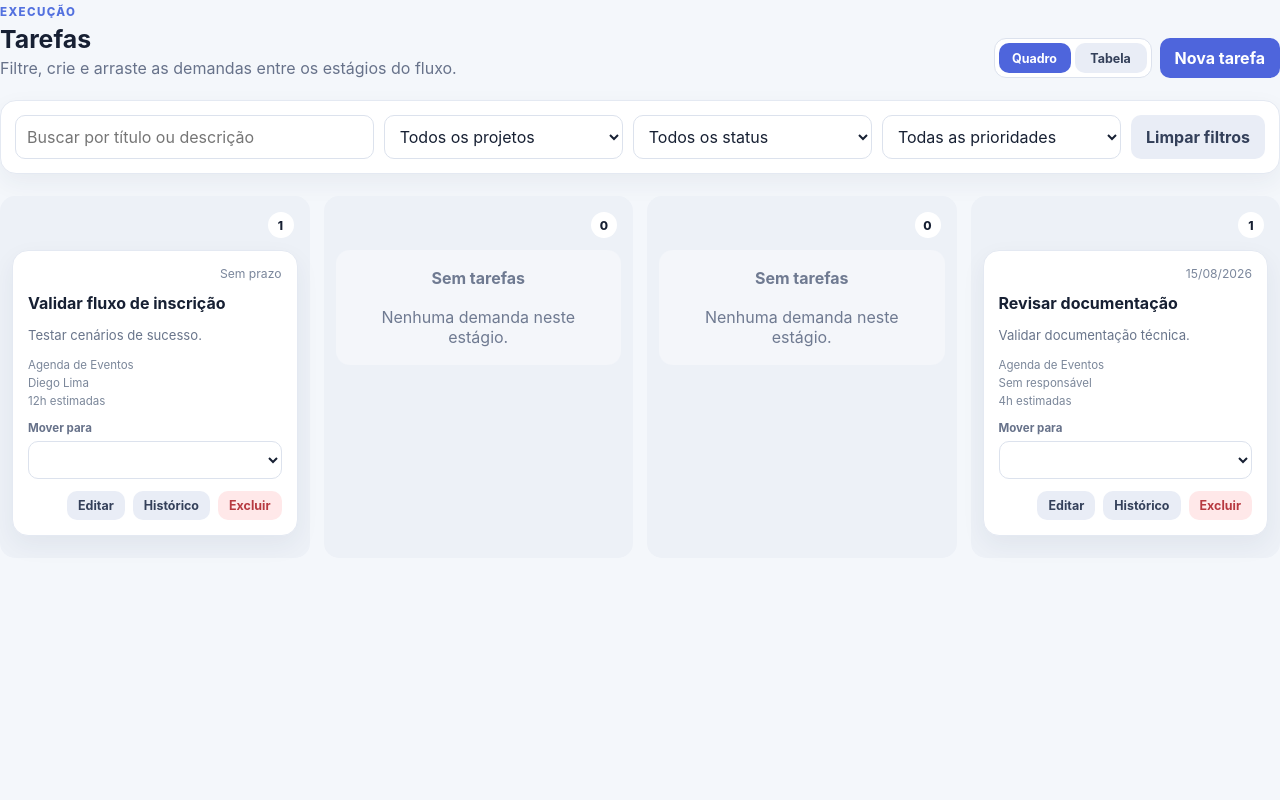
Test case: TasksPage › deletes a task and displays a success notice
What coordinates should you click on to do the following:
click the button "Excluir" below "12"
I would click on:
 (250, 506)
Its box is [218,491,282,520].
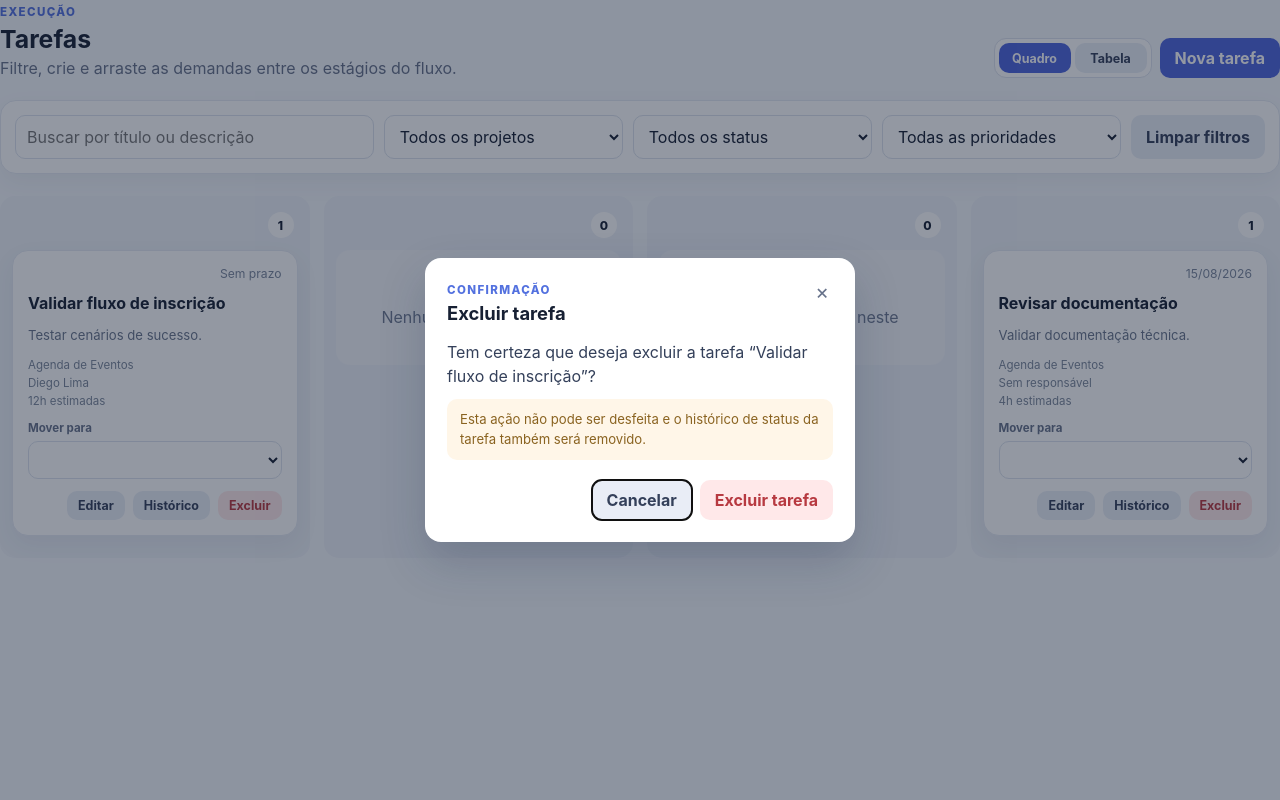
What coordinates should you click on to do the following:
click the button "Excluir tarefa"
I would click on:
 (766, 500)
Its box is [700,480,833,520].
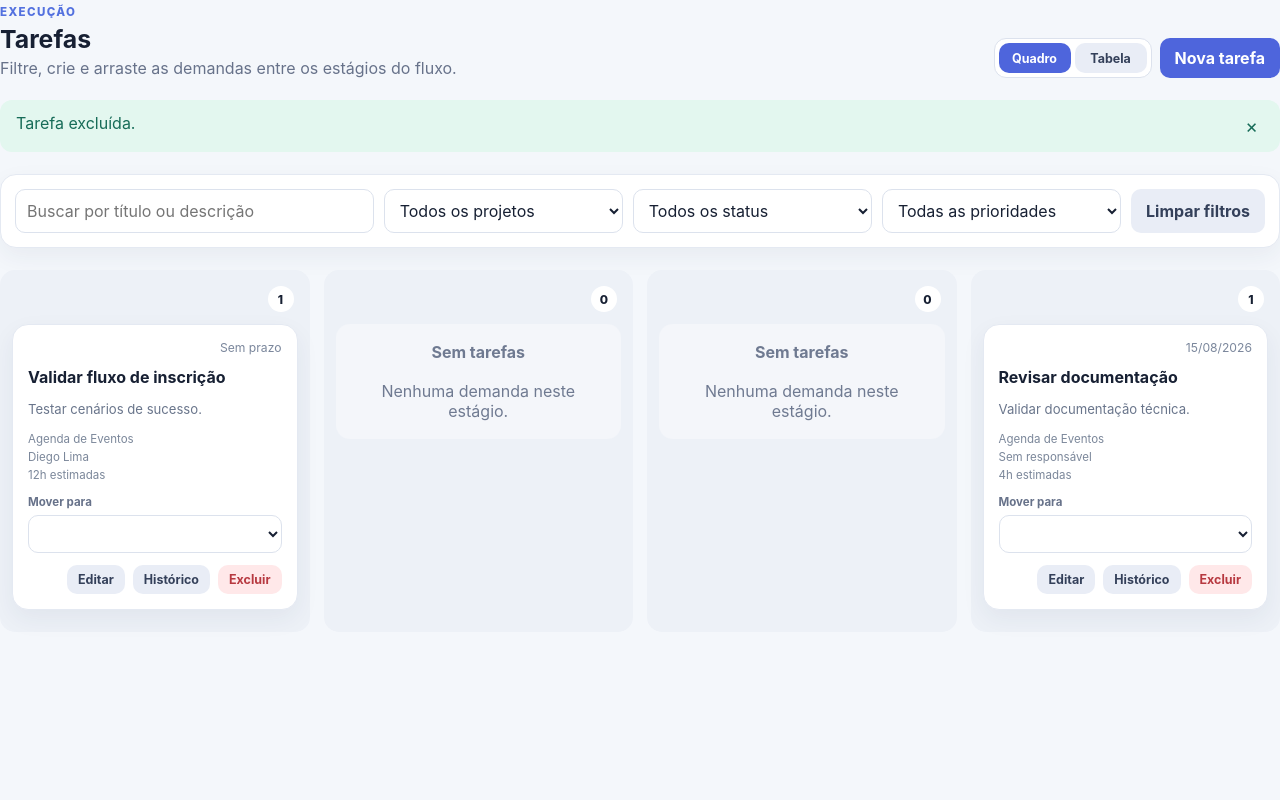
Expected: the text "Tarefa excluída." is shown, [16,113,136,139]
